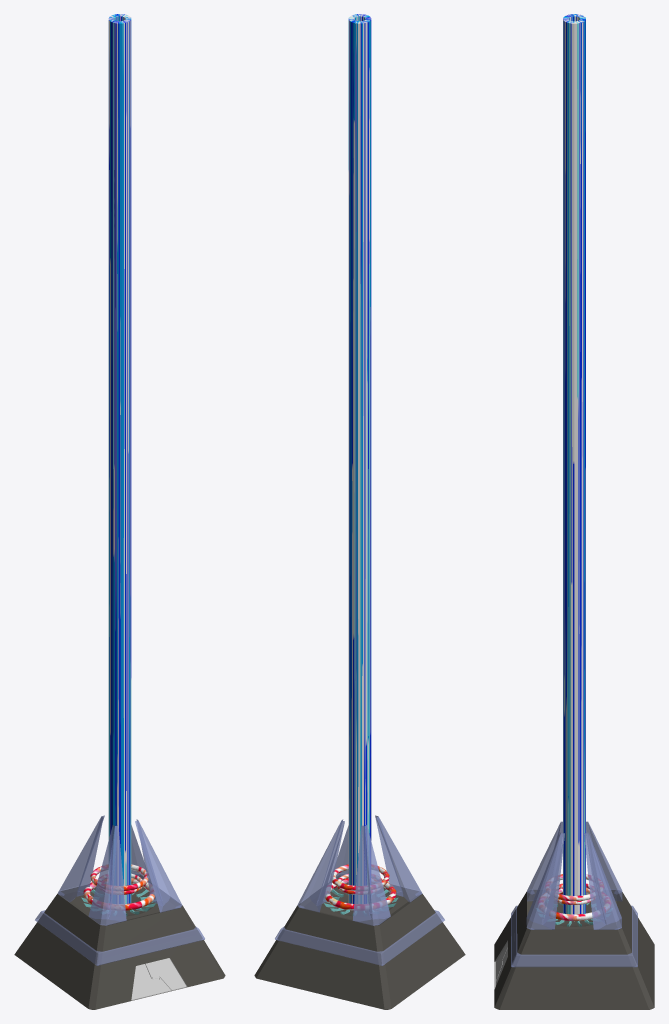
Rendered from tower.fbx.
3 views of the same model, side by side, from view 1: azimuth 30°, elevation 25°; view 2: azimuth 150°, elevation 25°; view 3: azimuth 270°, elevation 25° (orthographic).
Parts seen in each view (by area): view 1: polySurface2; view 2: polySurface2; view 3: polySurface2.
Boxes of the visible parts, left/top/right/bottom form: polySurface2: left=14, top=14, right=225, bottom=1009; polySurface2: left=254, top=14, right=465, bottom=1009; polySurface2: left=494, top=14, right=654, bottom=1009.
Size of the model in its own units: 2068 by 13644 by 2067.
7 materials, 2 textured.
